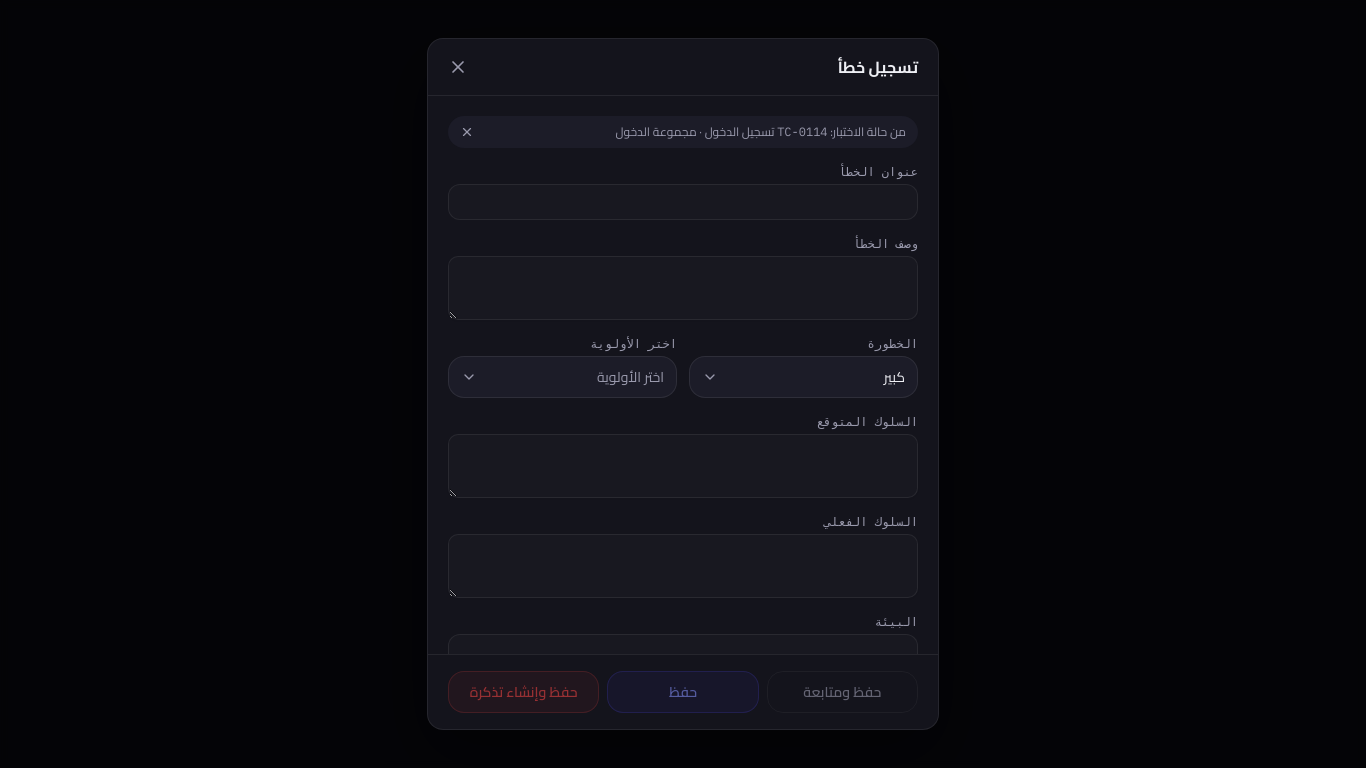
BugEditorDialog — opened from a case › turns the bug standalone when the strip is removed
The width and height of the screenshot is (1366, 768).
Click the button named "إزالة الربط بحالة الاختبار": point(467, 132) [460, 125, 474, 139]
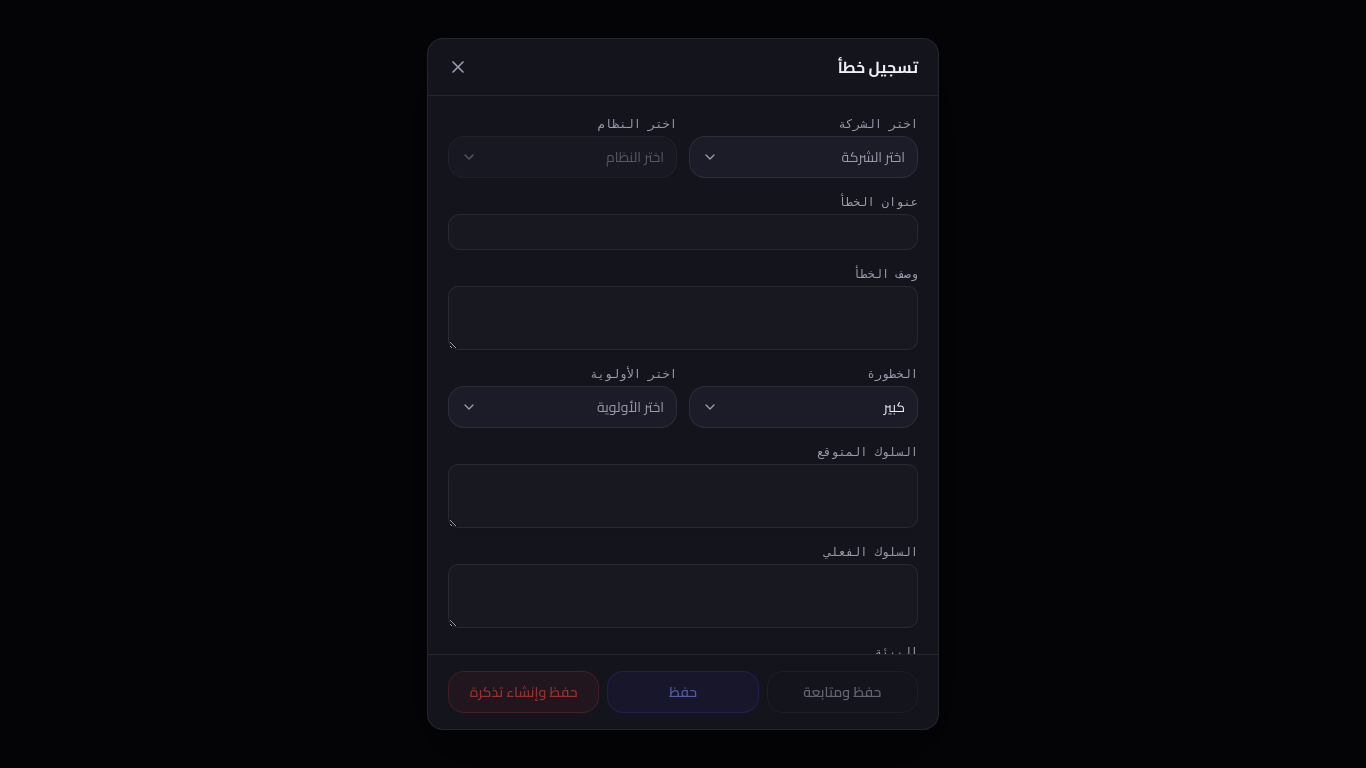
Check: the text "TC-0114" is gone
Check: the dropdown labelled "اختر الشركة" is shown, box [689, 136, 918, 178]
